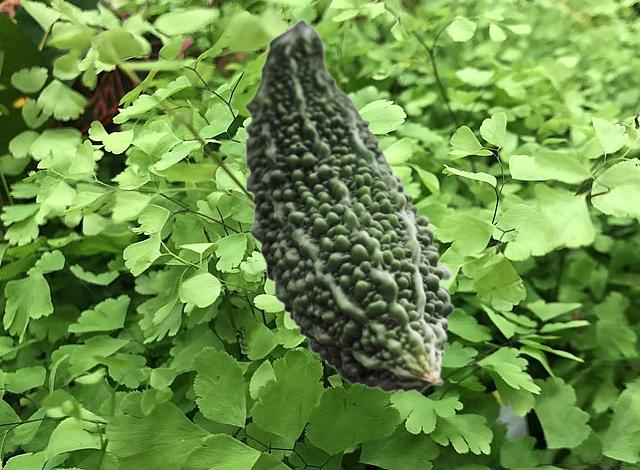ampalaya: (244, 18, 454, 392)
